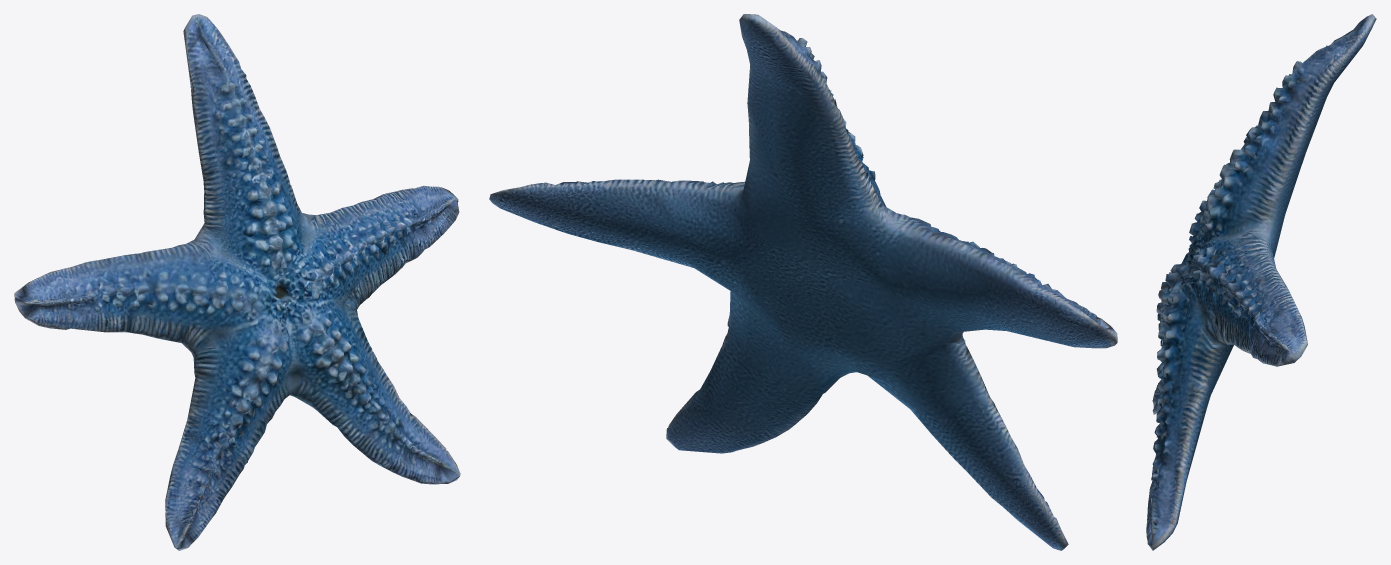
Rendered from starfish.glb.
The picture shows the model from 3 angles, left to right: view 1: azimuth 30°, elevation 25°; view 2: azimuth 150°, elevation 25°; view 3: azimuth 270°, elevation 25°; orthographic projection. The views are drawn at different scales.
Parts seen in each view (by area): view 1: tripo_node_f64a07dd-146c-4fcb-ada0-5b8f57e352b9; view 2: tripo_node_f64a07dd-146c-4fcb-ada0-5b8f57e352b9; view 3: tripo_node_f64a07dd-146c-4fcb-ada0-5b8f57e352b9.
Part boxes in pixels (bbox=[...]): tripo_node_f64a07dd-146c-4fcb-ada0-5b8f57e352b9: bbox=[14, 14, 460, 550]; tripo_node_f64a07dd-146c-4fcb-ada0-5b8f57e352b9: bbox=[489, 14, 1117, 550]; tripo_node_f64a07dd-146c-4fcb-ada0-5b8f57e352b9: bbox=[1146, 14, 1376, 550].
Bounding box in the file's own units: 0.9982 × 0.9238 × 0.421.
Materials: 1 (1 with a texture image).
